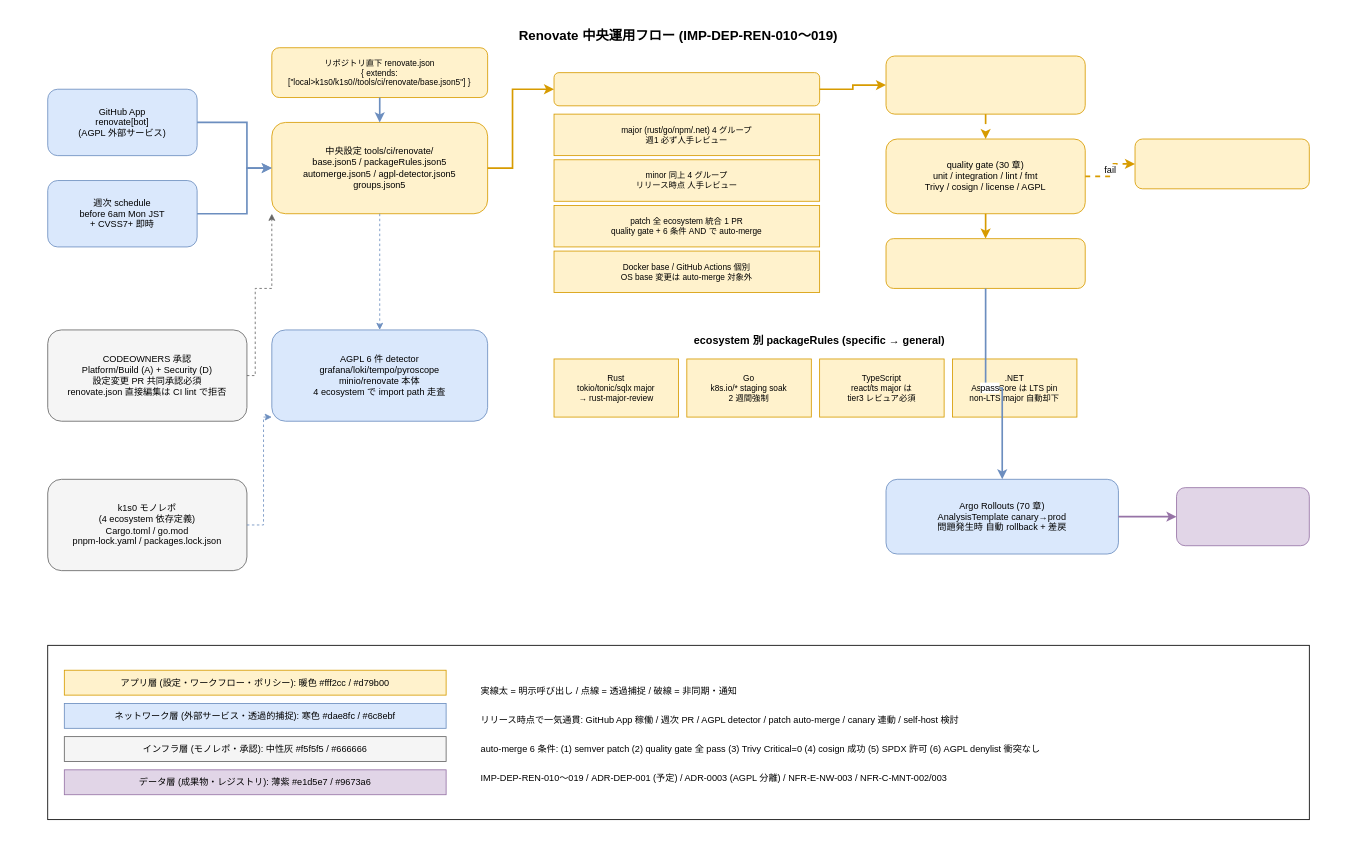
Some shapes in this 1356 by 858 pixel diagram are drawn without their labels. Each missing label, with the box of its shape:
auto-merge 6 条件 AND (patch のみ リリース時点〜): (885, 238, 1085, 288)
Dependency Dashboard Issue (週次レビュー会 唯一の入口): (885, 55, 1085, 114)
needs-review label 人手レビュー回送: (1134, 138, 1309, 189)
PR グループ化 4 軸: (553, 72, 820, 106)
prod 昇格 (1 週 soak 後): (1176, 487, 1309, 546)
凡例: (47, 644, 1309, 820)
